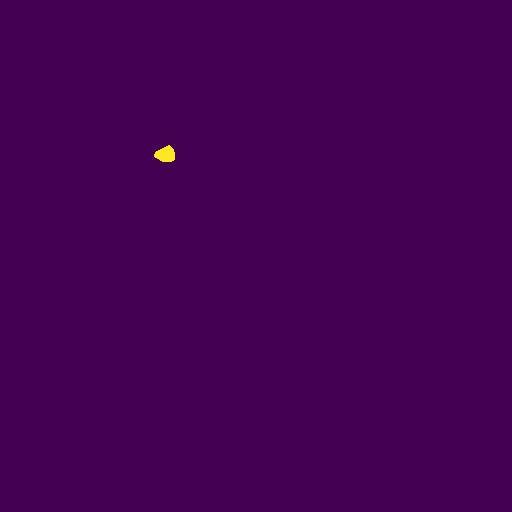Menigiomia_tumour: (154, 145, 175, 162)
